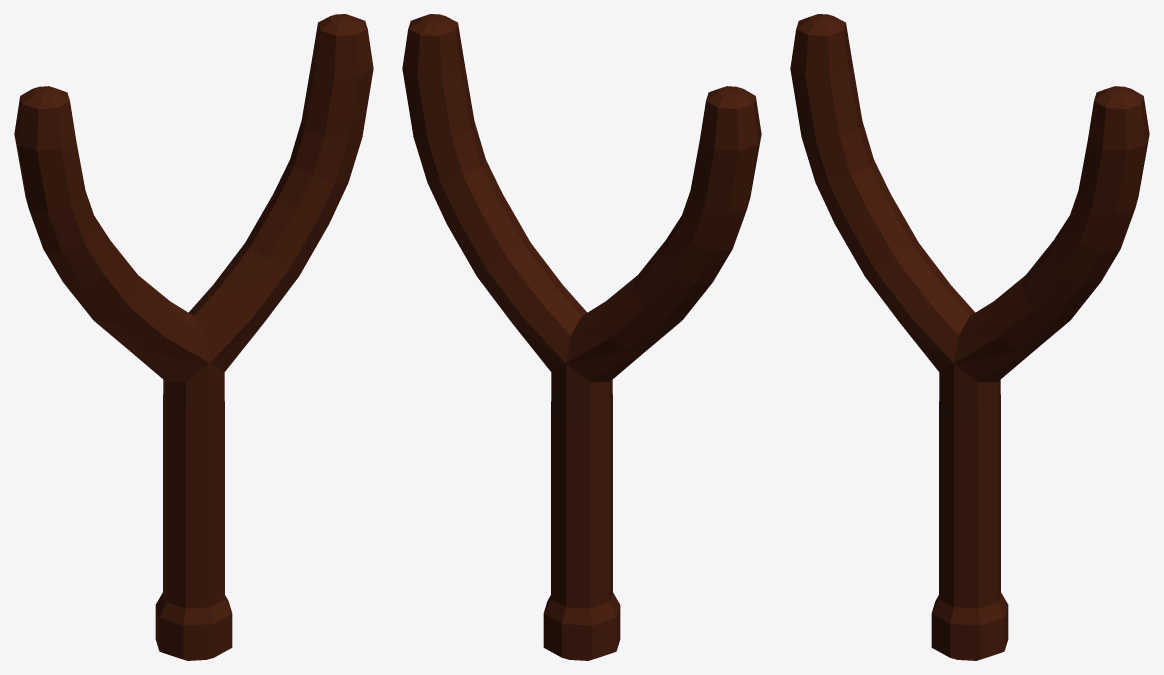
The model's file is slingshot.obj.
The picture shows the model from 3 angles, left to right: view 1: azimuth 30°, elevation 25°; view 2: azimuth 150°, elevation 25°; view 3: azimuth 330°, elevation 25°; orthographic projection.
Visible parts, largest first — view 1: Body_Cube; view 2: Body_Cube; view 3: Body_Cube.
Part boxes in pixels (<box>): Body_Cube: <box>14,14,373,660</box>; Body_Cube: <box>402,14,761,660</box>; Body_Cube: <box>790,14,1149,660</box>.
Size of the model in its own units: 1.09 by 1.77 by 0.2134.
